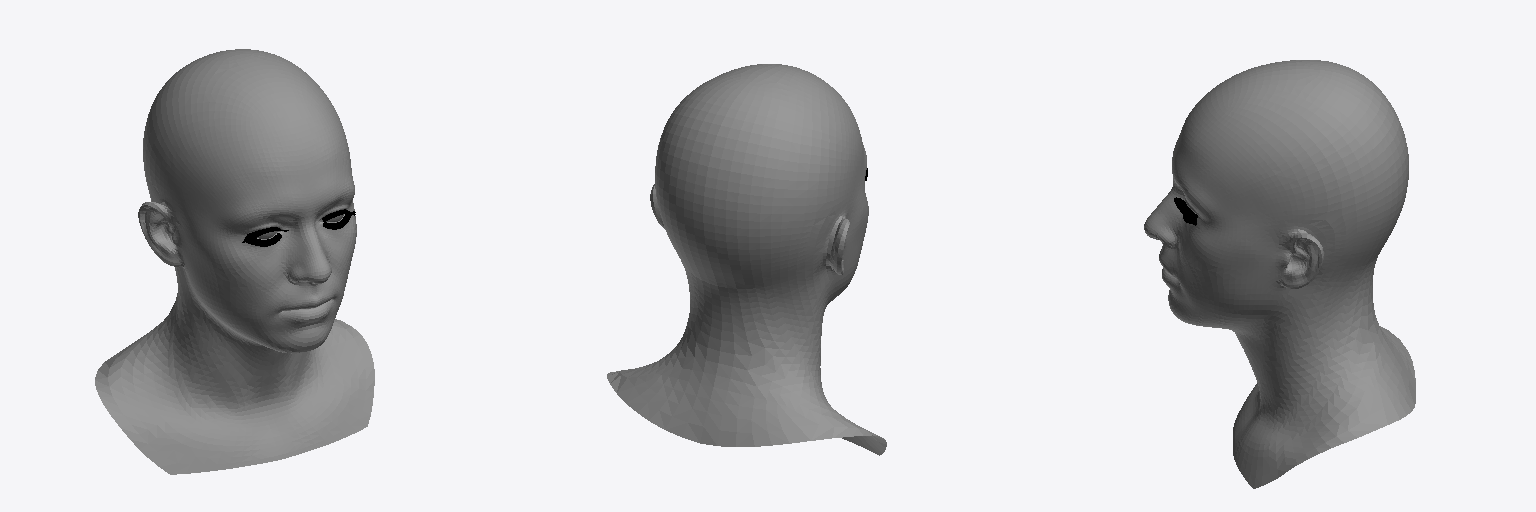
Rendered from identity072.obj.
3 renders of one model, left to right at view 1: azimuth 30°, elevation 25°; view 2: azimuth 150°, elevation 25°; view 3: azimuth 270°, elevation 25°, orthographic.
Bounding box in the file's own units: 24.81 × 33.8 × 22.29.